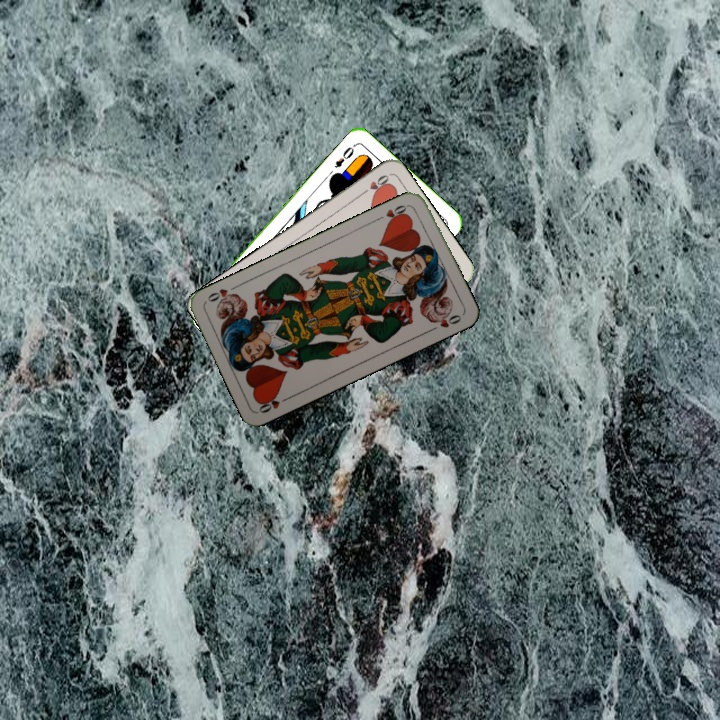EO: (331, 140, 358, 171)
HO: (356, 170, 392, 199), (373, 200, 412, 226), (255, 391, 294, 416)
